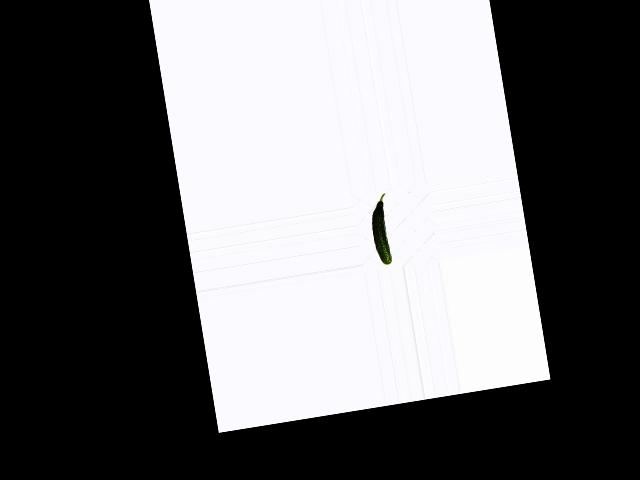cucumber: (367, 192, 395, 265)
